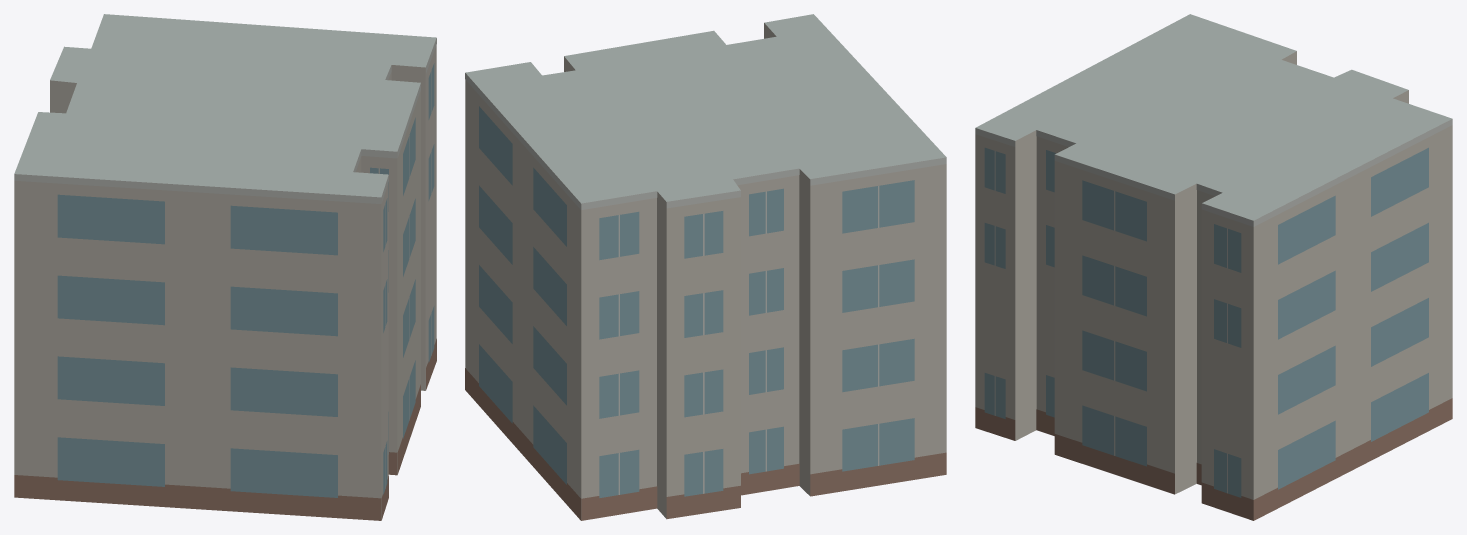
File: survey-upis-32707934.glb
The picture shows the model from 3 angles, left to right: view 1: azimuth 30°, elevation 25°; view 2: azimuth 150°, elevation 25°; view 3: azimuth 270°, elevation 25°; orthographic projection. The views are drawn at different scales.
Visible parts, largest first — view 1: survey-upis-32707934.tmp; view 2: survey-upis-32707934.tmp; view 3: survey-upis-32707934.tmp.
Boxes of the visible parts, box(x1,y1,x2,y2) form: survey-upis-32707934.tmp: box(14, 14, 436, 520); survey-upis-32707934.tmp: box(465, 14, 946, 520); survey-upis-32707934.tmp: box(975, 14, 1452, 520).
Bounding box in the file's own units: 17.3 × 11.7 × 16.88.
